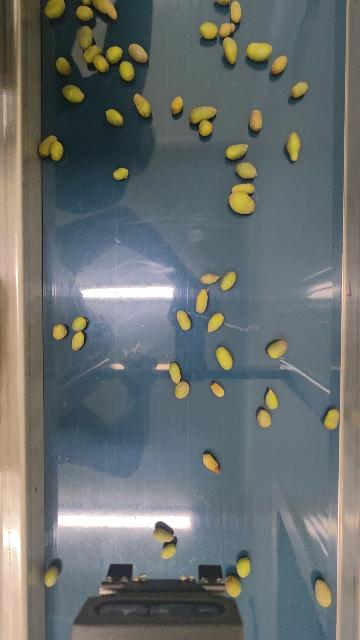Baby Potato: (228, 191, 257, 215), (313, 578, 333, 608), (132, 91, 153, 119), (188, 105, 218, 124), (92, 0, 118, 21), (246, 42, 273, 62), (285, 131, 302, 162), (38, 133, 57, 159), (222, 36, 239, 65), (224, 142, 249, 161), (127, 43, 149, 64), (62, 84, 85, 104), (235, 160, 258, 180), (76, 24, 94, 49), (267, 338, 288, 359), (44, 0, 66, 20), (224, 574, 242, 598), (216, 346, 233, 371), (202, 452, 221, 474), (324, 407, 341, 431), (264, 387, 280, 411), (44, 564, 60, 588), (199, 20, 218, 40), (105, 108, 125, 127), (195, 287, 209, 314), (230, 181, 257, 195), (220, 270, 237, 292), (119, 60, 136, 82), (153, 526, 175, 543), (236, 556, 252, 579), (290, 80, 309, 99), (105, 44, 124, 63), (76, 4, 95, 23), (83, 43, 102, 62), (207, 312, 224, 333), (271, 54, 288, 75), (176, 309, 192, 331), (49, 139, 64, 162), (93, 54, 110, 74), (256, 408, 273, 428), (249, 108, 263, 132), (70, 330, 86, 351), (174, 380, 191, 399), (229, 0, 243, 23), (56, 56, 72, 76), (168, 361, 182, 383), (198, 118, 215, 136), (209, 380, 225, 398), (52, 323, 68, 341), (170, 95, 184, 115), (218, 22, 236, 37), (200, 272, 220, 285), (72, 315, 87, 332), (161, 542, 176, 559), (112, 167, 129, 181), (214, 0, 232, 5), (80, 0, 94, 6)
